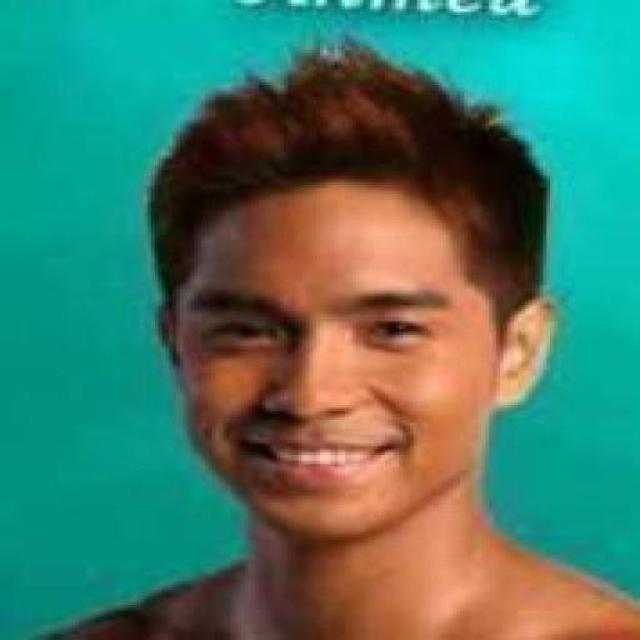bareface: (126, 137, 532, 534)
